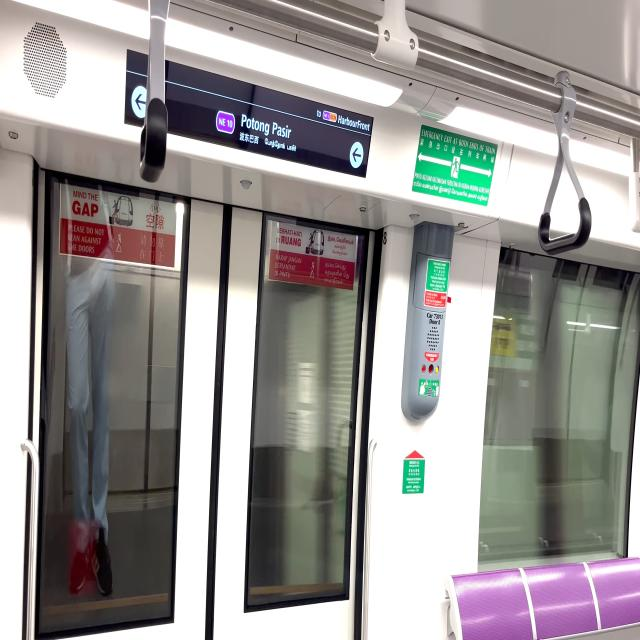bus-door: (36, 163, 376, 640)
